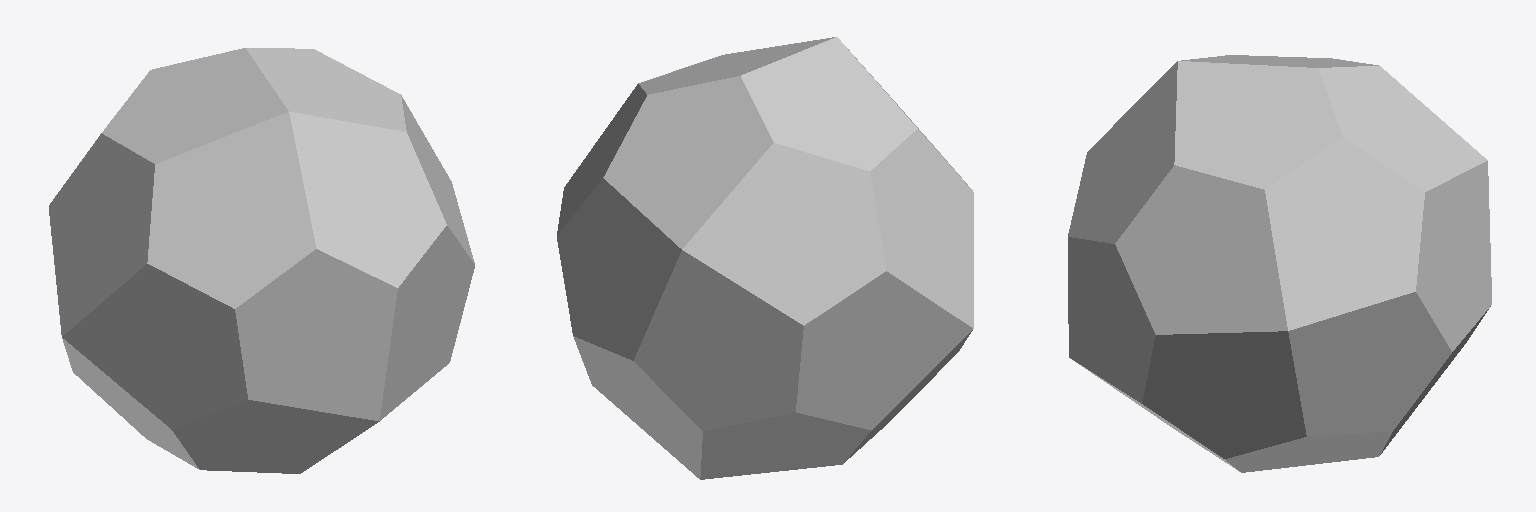
The model's file is PentagonalIcosiTetrahedron.obj.
3 renders of one model, left to right at view 1: azimuth 30°, elevation 25°; view 2: azimuth 150°, elevation 25°; view 3: azimuth 270°, elevation 25°, orthographic.
Parts seen in each view (by area): view 1: PentagonalIcosiTetrahedron; view 2: PentagonalIcosiTetrahedron; view 3: PentagonalIcosiTetrahedron.
Part boxes in pixels (x1,y1,x2,y2): PentagonalIcosiTetrahedron: (49,48,474,473); PentagonalIcosiTetrahedron: (557,37,973,479); PentagonalIcosiTetrahedron: (1068,55,1491,472).
Bounding box in the file's own units: 3.41 × 3.13 × 3.14.